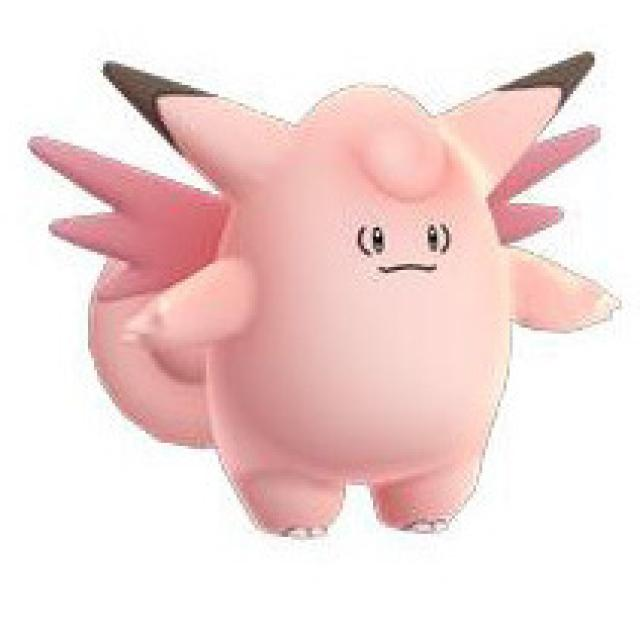Clefable: (101, 50, 600, 540)
